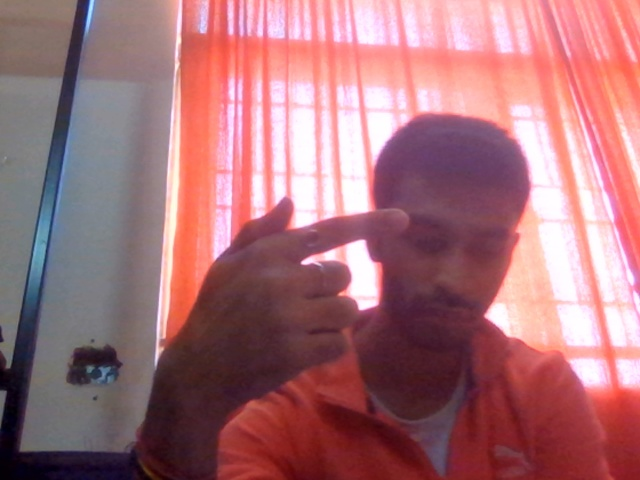G: (141, 164, 419, 434)
